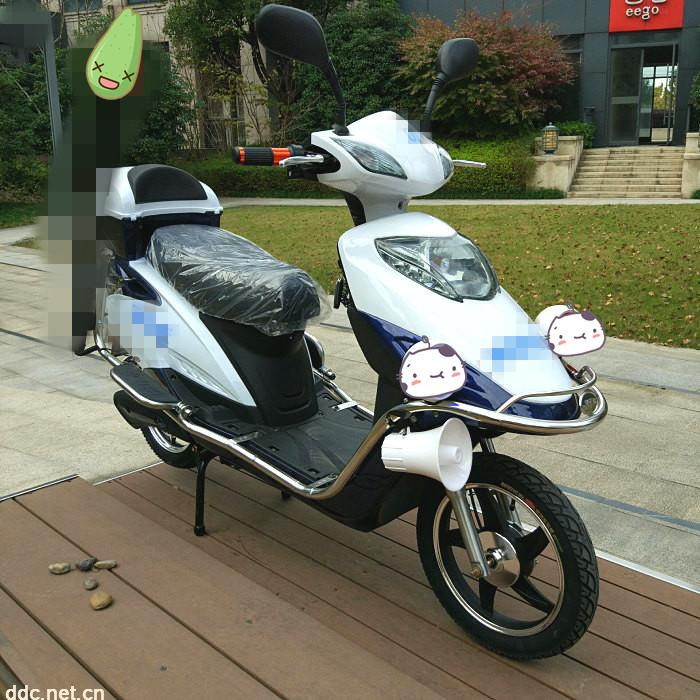MNV: (73, 109, 604, 666)
